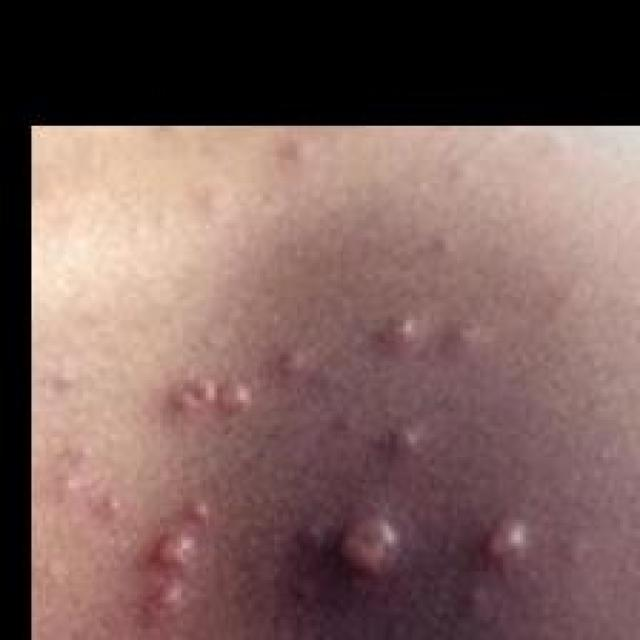others: (32, 123, 609, 640)
